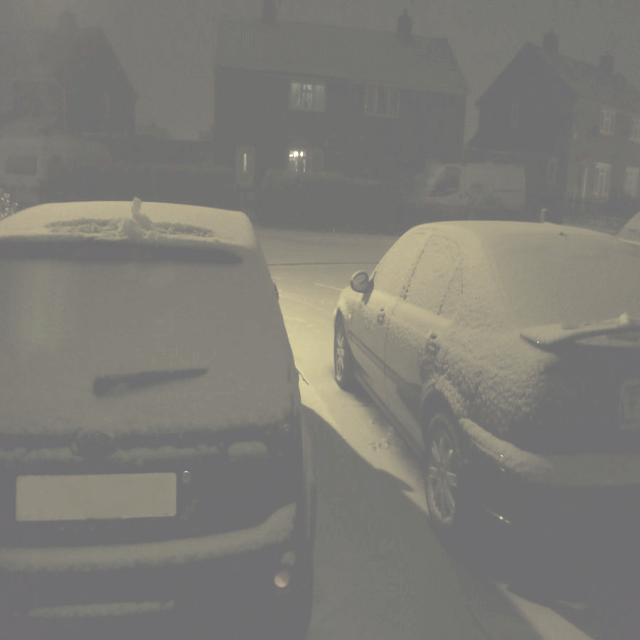Car: (1, 200, 320, 640), (330, 202, 640, 640)
